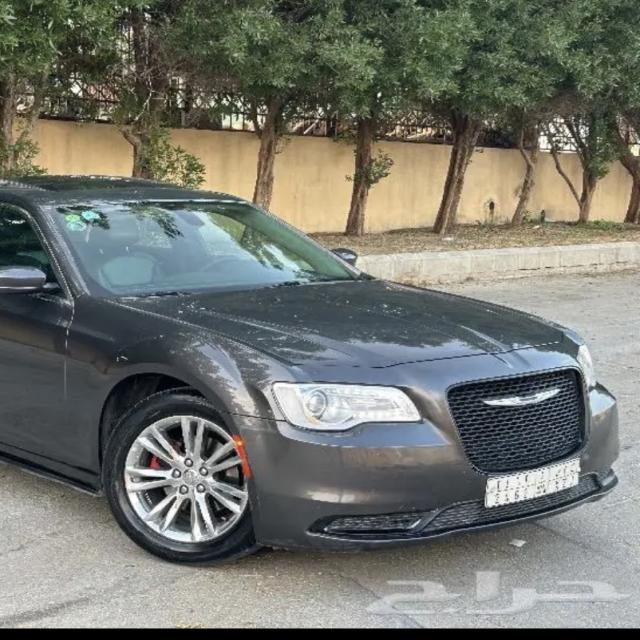license_plate: (486, 458, 581, 512)
